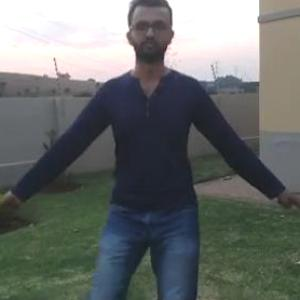land: (66, 50, 244, 299)
